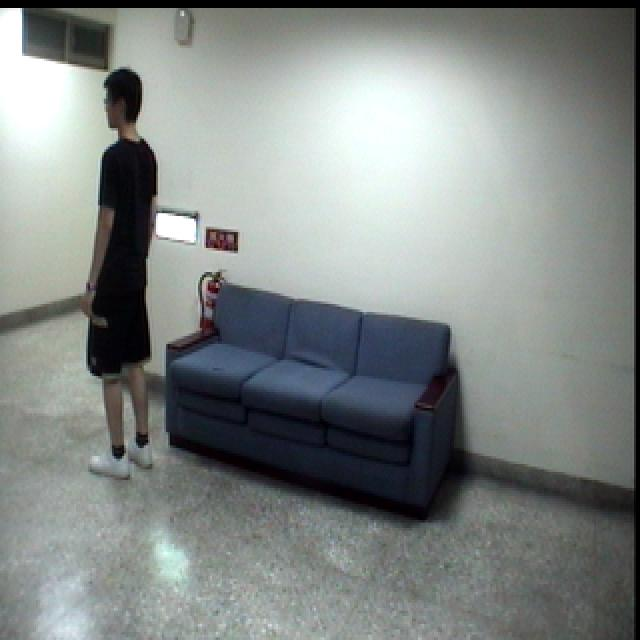stand: (78, 63, 170, 484)
